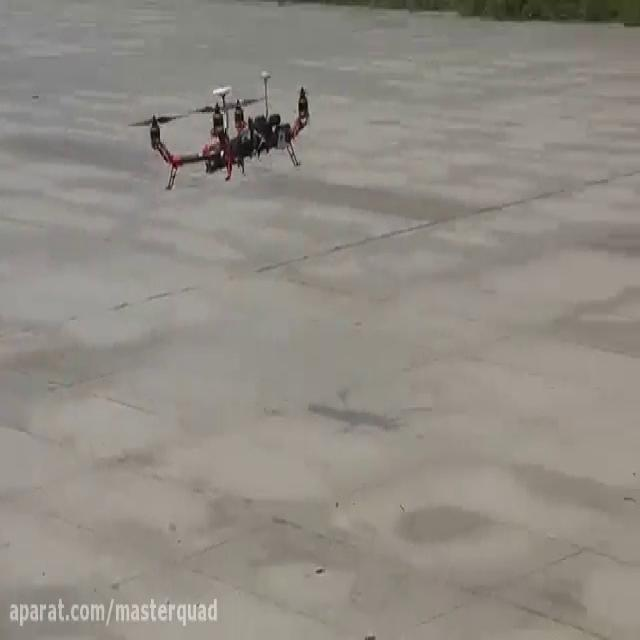drone: (122, 61, 319, 199)
